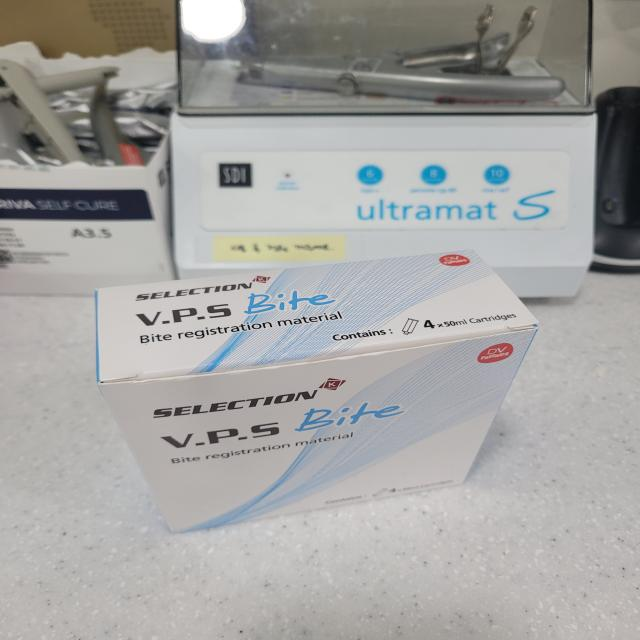impression: (67, 242, 536, 538)
